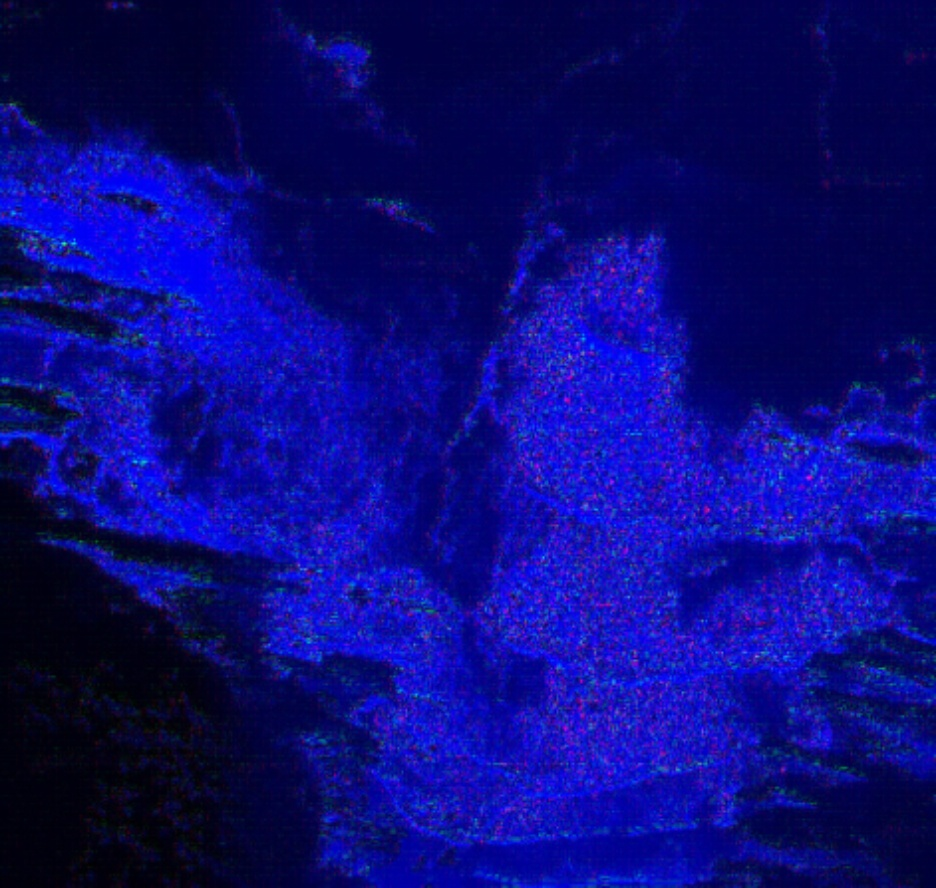rip_current: (277, 204, 576, 710)
